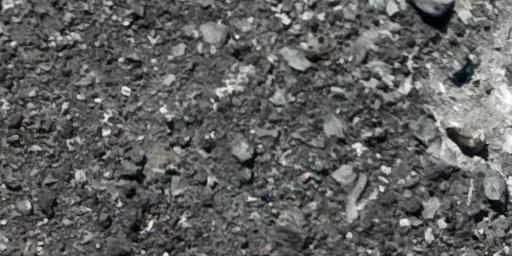skua: (444, 124, 492, 156)
